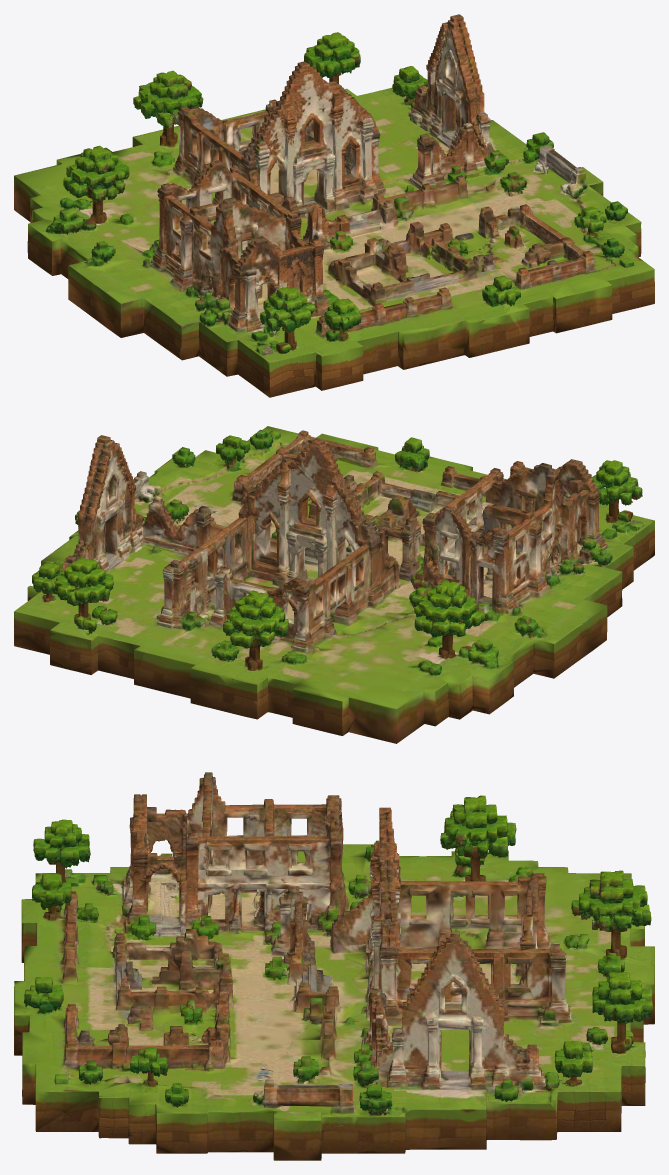
The model's file is wichayen.glb.
The picture shows the model from 3 angles, top to bottom: view 1: azimuth 30°, elevation 25°; view 2: azimuth 150°, elevation 25°; view 3: azimuth 270°, elevation 25°; orthographic projection. The views are drawn at different scales.
Size of the model in its own units: 1.9 by 0.6699 by 1.87.
1 material, 1 textured.
